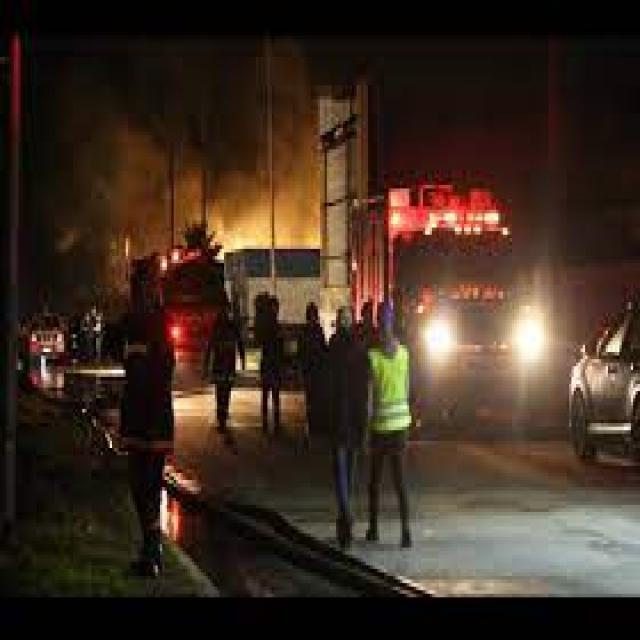pompier: (389, 180, 533, 435)
